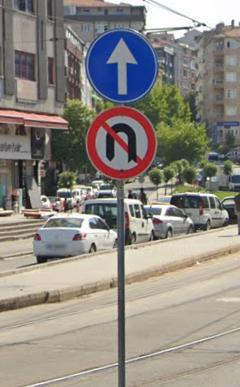forward: (92, 33, 145, 100)
